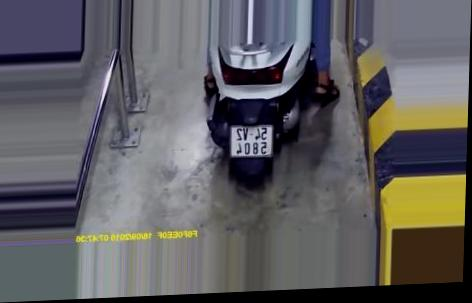License_Plate: (227, 122, 276, 163)
